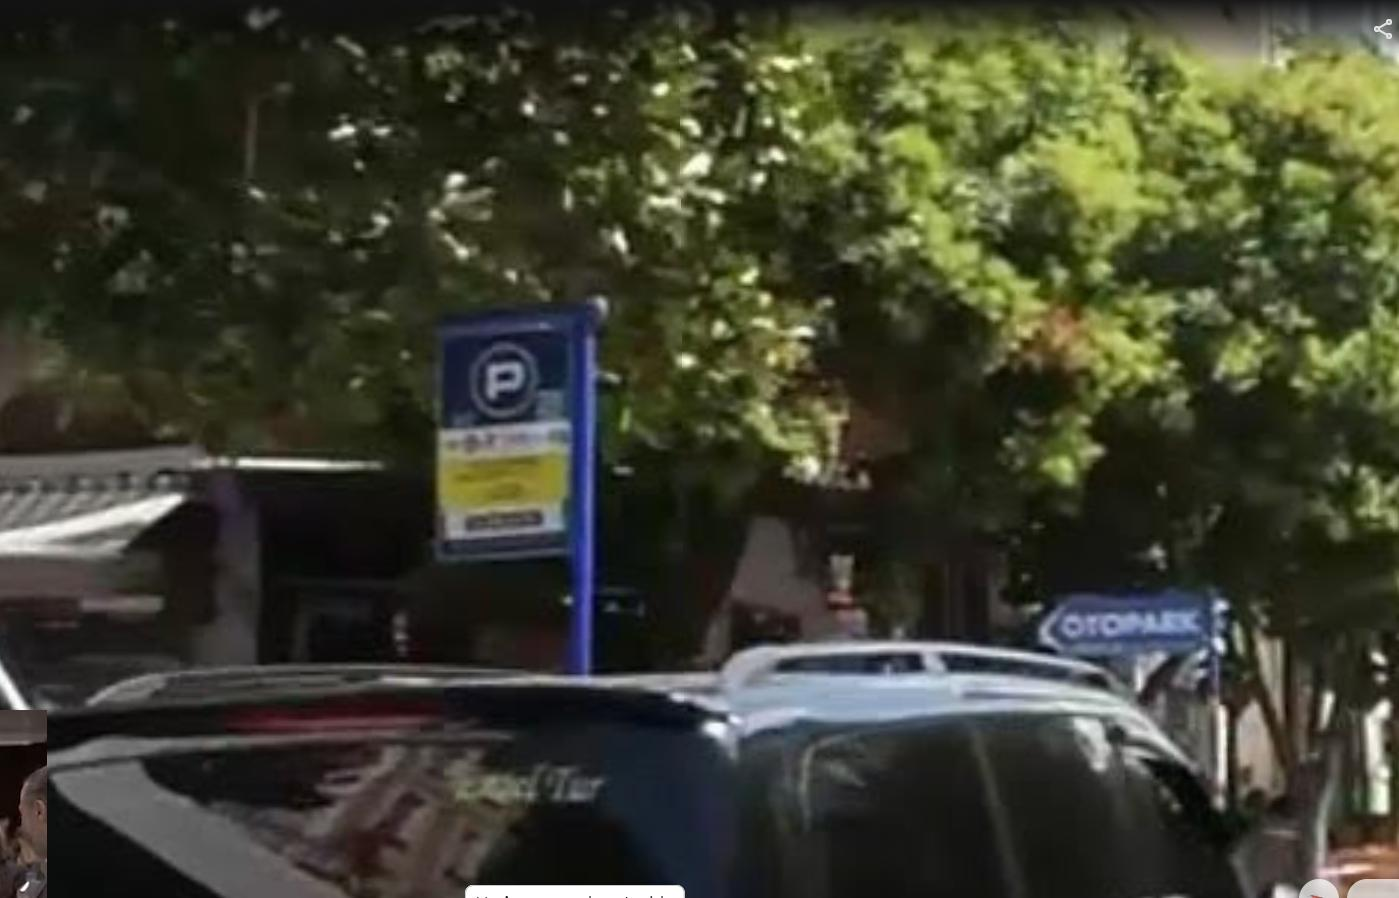park: (447, 326, 571, 421)
